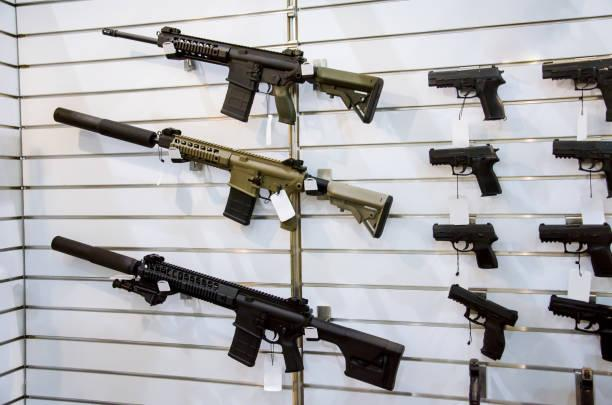weapon: (46, 234, 404, 395), (52, 102, 394, 243), (97, 18, 386, 128), (447, 284, 519, 364), (421, 63, 508, 122), (542, 290, 612, 362), (540, 54, 612, 121), (537, 219, 612, 279), (425, 142, 504, 198), (547, 136, 612, 195), (431, 222, 500, 270)
